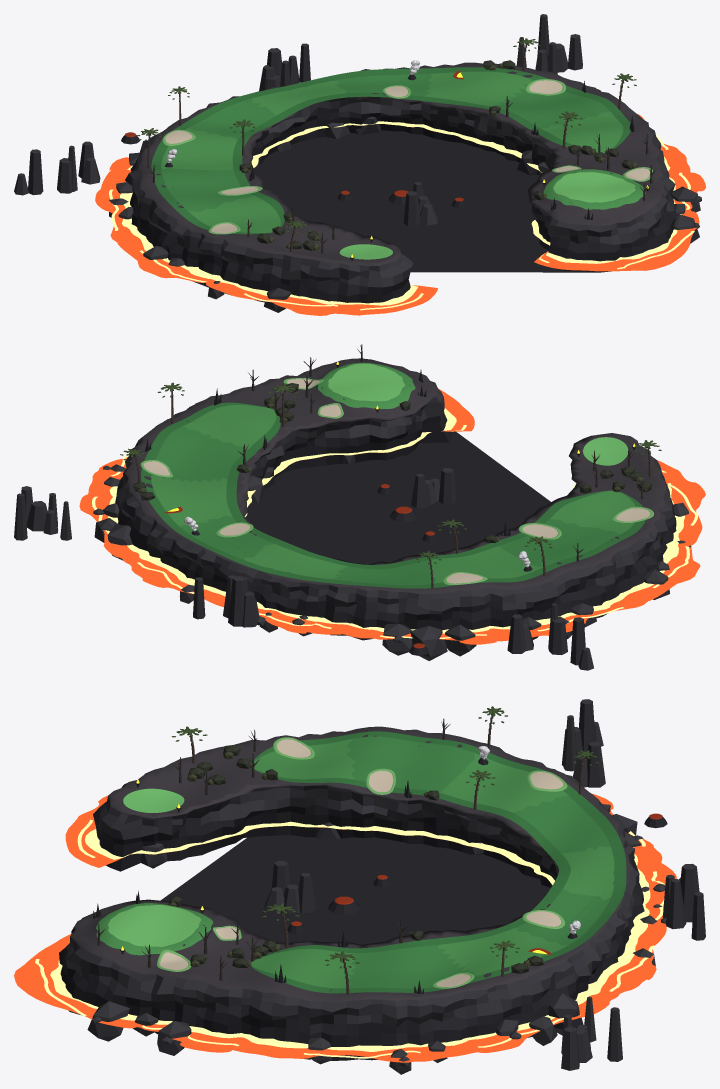
The model's file is hole_23.fbx.
The picture shows the model from 3 angles, top to bottom: view 1: azimuth 30°, elevation 25°; view 2: azimuth 150°, elevation 25°; view 3: azimuth 270°, elevation 25°; orthographic projection. The views are drawn at different scales.
Parts seen in each view (by area): view 1: TERRAIN_ISLAND_1, FAIRWAY, WATER_SHALLOW_1, FAIRWAY_FIRSTCUT, TREES, ROCKS, WATER_FOAM_1, STACKS_2, GREEN_1, STACKS_4, STACKS_3, GREEN_APRON_1 (+3 smaller); view 2: TERRAIN_ISLAND_1, FAIRWAY, WATER_SHALLOW_1, FAIRWAY_FIRSTCUT, ROCKS, TREES, WATER_FOAM_1, STACKS_2, GREEN_1, STACKS_4, STACKS_3, STACKS_1 (+3 smaller); view 3: TERRAIN_ISLAND_1, FAIRWAY, WATER_SHALLOW_1, FAIRWAY_FIRSTCUT, ROCKS, TREES, WATER_FOAM_1, GREEN_1, STACKS_2, STACKS_3, STACKS_4, STACKS_1 (+3 smaller).
Boxes of the visible parts, x1=… form: TERRAIN_ISLAND_1: x1=125, y1=62, x2=676, y2=303; FAIRWAY: x1=161, y1=71, x2=623, y2=232; WATER_SHALLOW_1: x1=95, y1=114, x2=705, y2=315; FAIRWAY_FIRSTCUT: x1=151, y1=67, x2=630, y2=234; TREES: x1=137, y1=38, x2=656, y2=253; ROCKS: x1=109, y1=116, x2=701, y2=312; WATER_FOAM_1: x1=120, y1=121, x2=681, y2=305; STACKS_2: x1=14, y1=141, x2=100, y2=195; GREEN_1: x1=553, y1=172, x2=635, y2=202; STACKS_4: x1=516, y1=14, x2=582, y2=74; STACKS_3: x1=259, y1=43, x2=310, y2=91; GREEN_APRON_1: x1=543, y1=169, x2=645, y2=209; TERRAIN_ISLAND_1: x1=115, y1=358, x2=676, y2=640; FAIRWAY: x1=151, y1=405, x2=635, y2=585; WATER_SHALLOW_1: x1=79, y1=388, x2=705, y2=644; FAIRWAY_FIRSTCUT: x1=141, y1=402, x2=645, y2=588; ROCKS: x1=93, y1=455, x2=691, y2=660; TREES: x1=120, y1=344, x2=661, y2=588; WATER_FOAM_1: x1=108, y1=408, x2=684, y2=633; STACKS_2: x1=507, y1=603, x2=593, y2=670; GREEN_1: x1=328, y1=363, x2=404, y2=401; STACKS_4: x1=14, y1=486, x2=71, y2=540; STACKS_3: x1=193, y1=575, x2=259, y2=627; STACKS_1: x1=411, y1=468, x2=456, y2=508; TERRAIN_ISLAND_1: x1=59, y1=726, x2=644, y2=1060; FAIRWAY: x1=251, y1=736, x2=614, y2=988; WATER_SHALLOW_1: x1=14, y1=794, x2=676, y2=1062; FAIRWAY_FIRSTCUT: x1=251, y1=731, x2=626, y2=993; ROCKS: x1=87, y1=804, x2=666, y2=1074; TREES: x1=93, y1=706, x2=598, y2=994; WATER_FOAM_1: x1=50, y1=821, x2=650, y2=1051; GREEN_1: x1=108, y1=905, x2=200, y2=946; STACKS_2: x1=561, y1=699, x2=605, y2=787; STACKS_3: x1=662, y1=863, x2=705, y2=940; STACKS_4: x1=561, y1=996, x2=622, y2=1070; STACKS_1: x1=264, y1=861, x2=316, y2=913.
Size of what is drawn, in the model's own units: 327 by 51.93 by 290.
